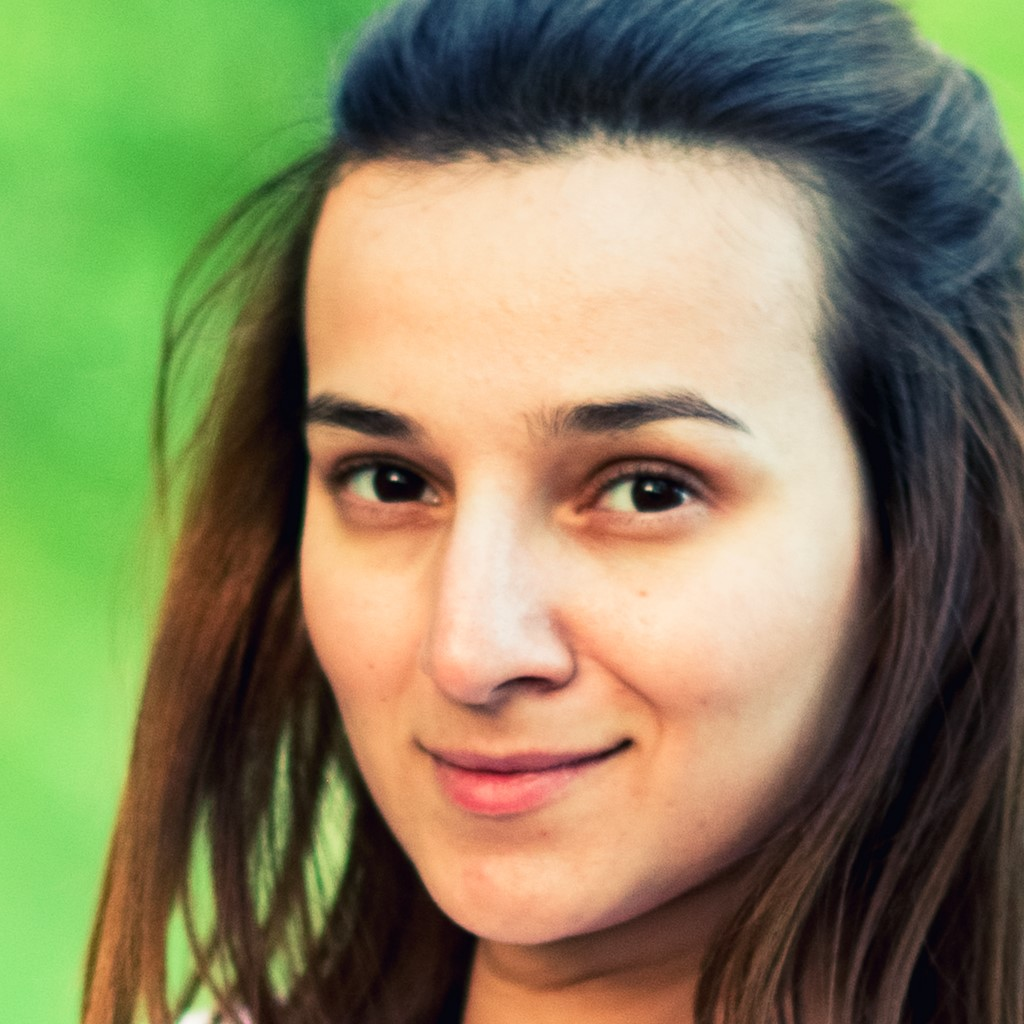sin_mascara: (297, 70, 932, 955)
